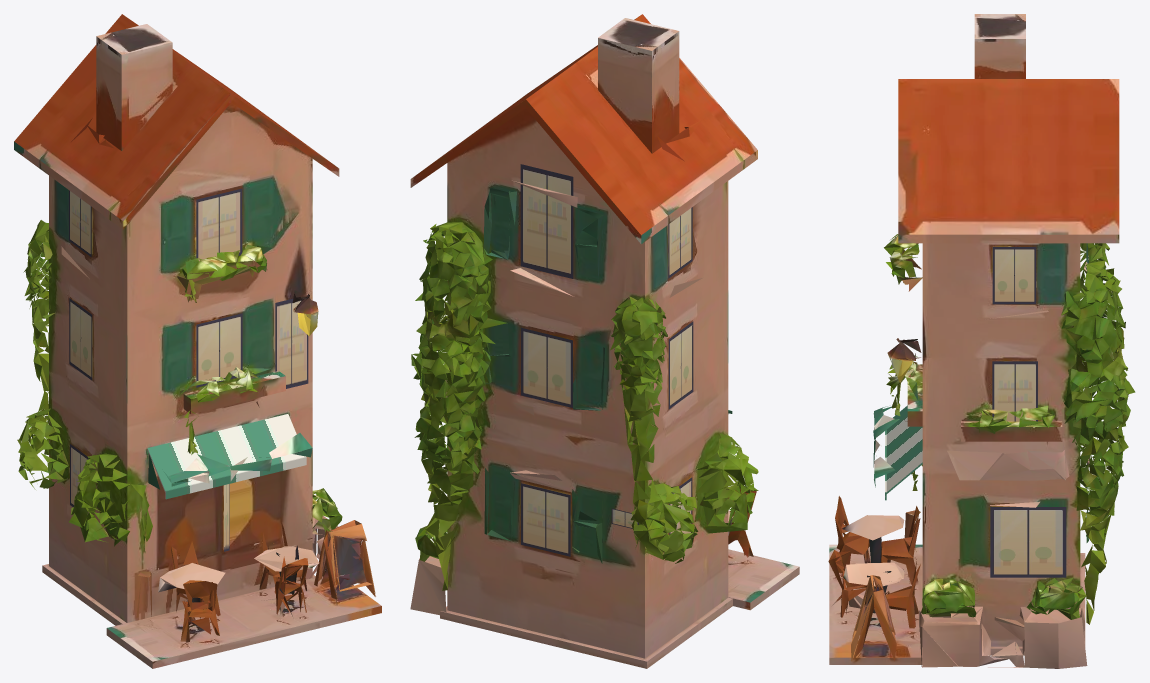
File: m11_04_cafe_r270.glb
3 views of the same model, side by side, from view 1: azimuth 30°, elevation 25°; view 2: azimuth 150°, elevation 25°; view 3: azimuth 270°, elevation 25° (orthographic). The views are drawn at different scales.
Parts seen in each view (by area): view 1: shell, cafe_detail; view 2: shell, cafe_detail; view 3: shell, cafe_detail.
Boxes of the visible parts, x1,y1,x2,y2 form: shell: [14, 14, 381, 668]; cafe_detail: [17, 118, 375, 642]; shell: [410, 14, 799, 668]; cafe_detail: [410, 119, 758, 615]; shell: [829, 14, 1119, 664]; cafe_detail: [828, 234, 1135, 668].
Size of the model in its own units: 7.93 by 16.11 by 8.03.
Materials: 5 (5 with a texture image).
